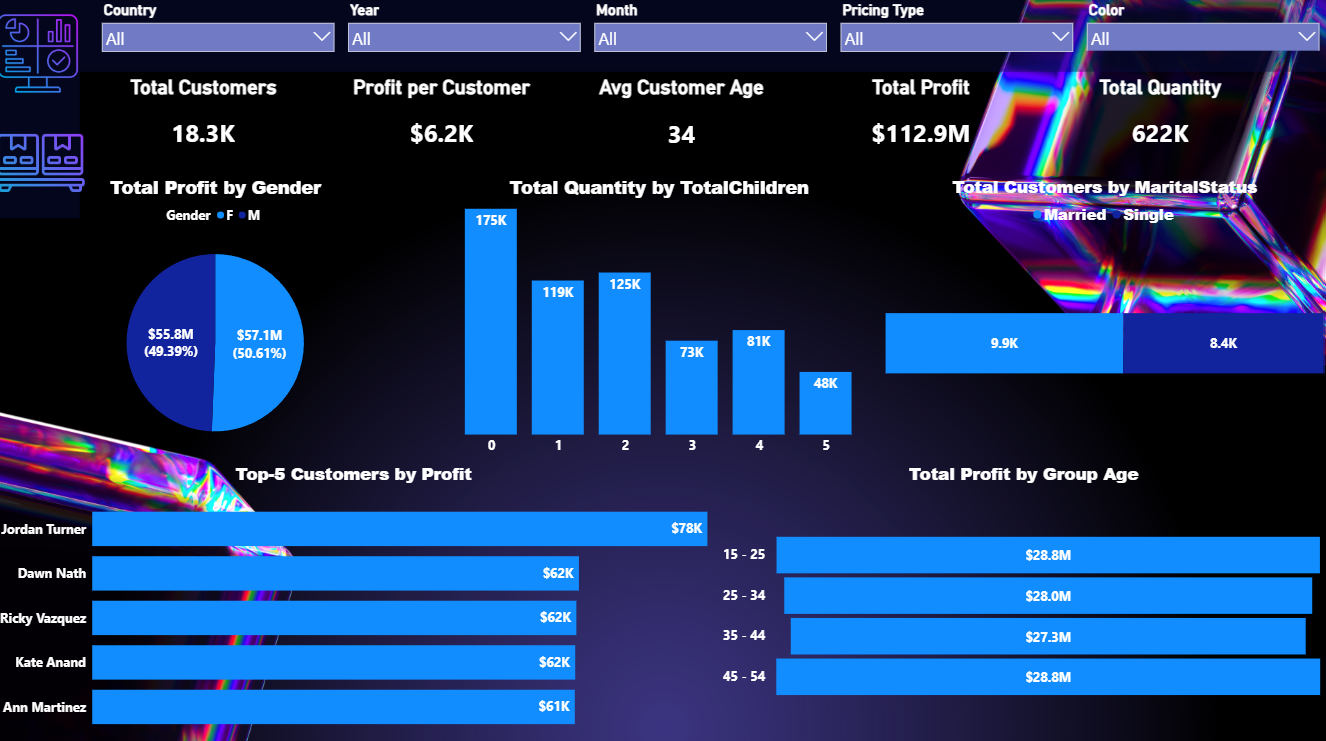

What the dashboard file says about the page in this screenshot:
{"tool":"powerbi","page":{"name":"Customer Analysis","canvas":[1920,1080],"ordinal":3},"visuals":[{"type":"shape","box":[0,0,120.8,317.4],"z":0},{"type":"shape","box":[120.8,0,1799.6,106.4],"z":1000},{"type":"cardVisual","title":"Total Customers","fields":{"Data":["0.Total Customers"]},"box":[129.5,112.5,339,128],"z":2000},{"type":"cardVisual","title":"Profit per Customer","fields":{"Data":["0.Profit per Customer"]},"box":[468.8,111.8,348,128],"z":3000},{"type":"cardVisual","title":"Avg Customer Age","fields":{"Data":["0.Average Customer Age"]},"box":[816.8,111.8,344.4,129.8],"z":4000},{"type":"cardVisual","title":"Total Profit","fields":{"Data":["0.Total Profit"]},"box":[1161.2,111.8,346.2,128],"z":5000},{"type":"cardVisual","title":"Total Quantity","fields":{"Data":["0.Total Quantity"]},"box":[1507.4,111.8,344.4,128],"z":6000},{"type":"funnel","fields":{"Category":["DimCustomer.Group Age"],"Y":["0.Total Profit"]},"box":[1044,669,876.3,411.1],"z":7000},{"type":"pieChart","fields":{"Category":["DimCustomer.Gender"],"Y":["0.Total Profit"]},"box":[0,254.2,632.9,414.7],"z":8000},{"type":"barChart","title":"Top-5 Customers by Profit","fields":{"Category":["DimCustomer.Full Name"],"Y":["0.Total Profit"]},"box":[0,669,1031.4,411.1],"z":9000},{"type":"clusteredColumnChart","fields":{"Category":["DimCustomer.TotalChildren"],"Y":["0.Total Quantity"]},"box":[632.9,254.2,647.3,414.7],"z":10000},{"type":"barChart","fields":{"Series":["DimCustomer.MaritalStatus"],"Y":["0.Total Customers"]},"box":[1278.4,254.2,641.9,414.7],"z":11000},{"type":"image","box":[0,0,120.8,158.7],"z":12000},{"type":"image","box":[0,158.7,128,158.7],"z":13000},{"type":"slicer","title":"Country","fields":{"Values":["DimGeography.Country"]},"box":[143.1,0.7,355.2,90.2],"z":14000},{"type":"slicer","title":"Country","fields":{"Values":["DimDate.Date.Variation.Date Hierarchy.Year"]},"box":[498.4,0.7,355.2,90.2],"z":15000},{"type":"slicer","title":"Country","fields":{"Values":["DimDate.Date.Variation.Date Hierarchy.Month"]},"box":[853.6,0.7,355.2,90.2],"z":16000},{"type":"slicer","title":"Country","fields":{"Values":["DimProduct.Color"]},"box":[1564,0.7,355.2,75.7],"z":17000},{"type":"slicer","title":"Country","fields":{"Values":["DimProduct.Pricing Type"]},"box":[1208.8,0.7,355.2,90.2],"z":18000}]}

Visuals, with their boxes in screenshot pixels (x1, y1, x2, y2), scaled from the page's 1920x1080 canvas onto the 1326x741 screenshot:
shape: locate(0, 0, 83, 218)
shape: locate(83, 0, 1325, 73)
"Total Customers" cardVisual: locate(89, 77, 324, 165)
"Profit per Customer" cardVisual: locate(324, 77, 564, 165)
"Avg Customer Age" cardVisual: locate(564, 77, 802, 166)
"Total Profit" cardVisual: locate(802, 77, 1041, 165)
"Total Quantity" cardVisual: locate(1041, 77, 1279, 165)
funnel - DimCustomer.Group Age x 0.Total Profit: locate(721, 459, 1325, 740)
pieChart - DimCustomer.Gender x 0.Total Profit: locate(0, 174, 437, 459)
"Top-5 Customers by Profit" barChart: locate(0, 459, 712, 740)
clusteredColumnChart - DimCustomer.TotalChildren x 0.Total Quantity: locate(437, 174, 884, 459)
barChart - DimCustomer.MaritalStatus x 0.Total Customers: locate(883, 174, 1325, 459)
image: locate(0, 0, 83, 109)
image: locate(0, 109, 88, 218)
"Country" slicer: locate(99, 0, 344, 62)
"Country" slicer: locate(344, 0, 590, 62)
"Country" slicer: locate(590, 0, 835, 62)
"Country" slicer: locate(1080, 0, 1325, 52)
"Country" slicer: locate(835, 0, 1080, 62)
